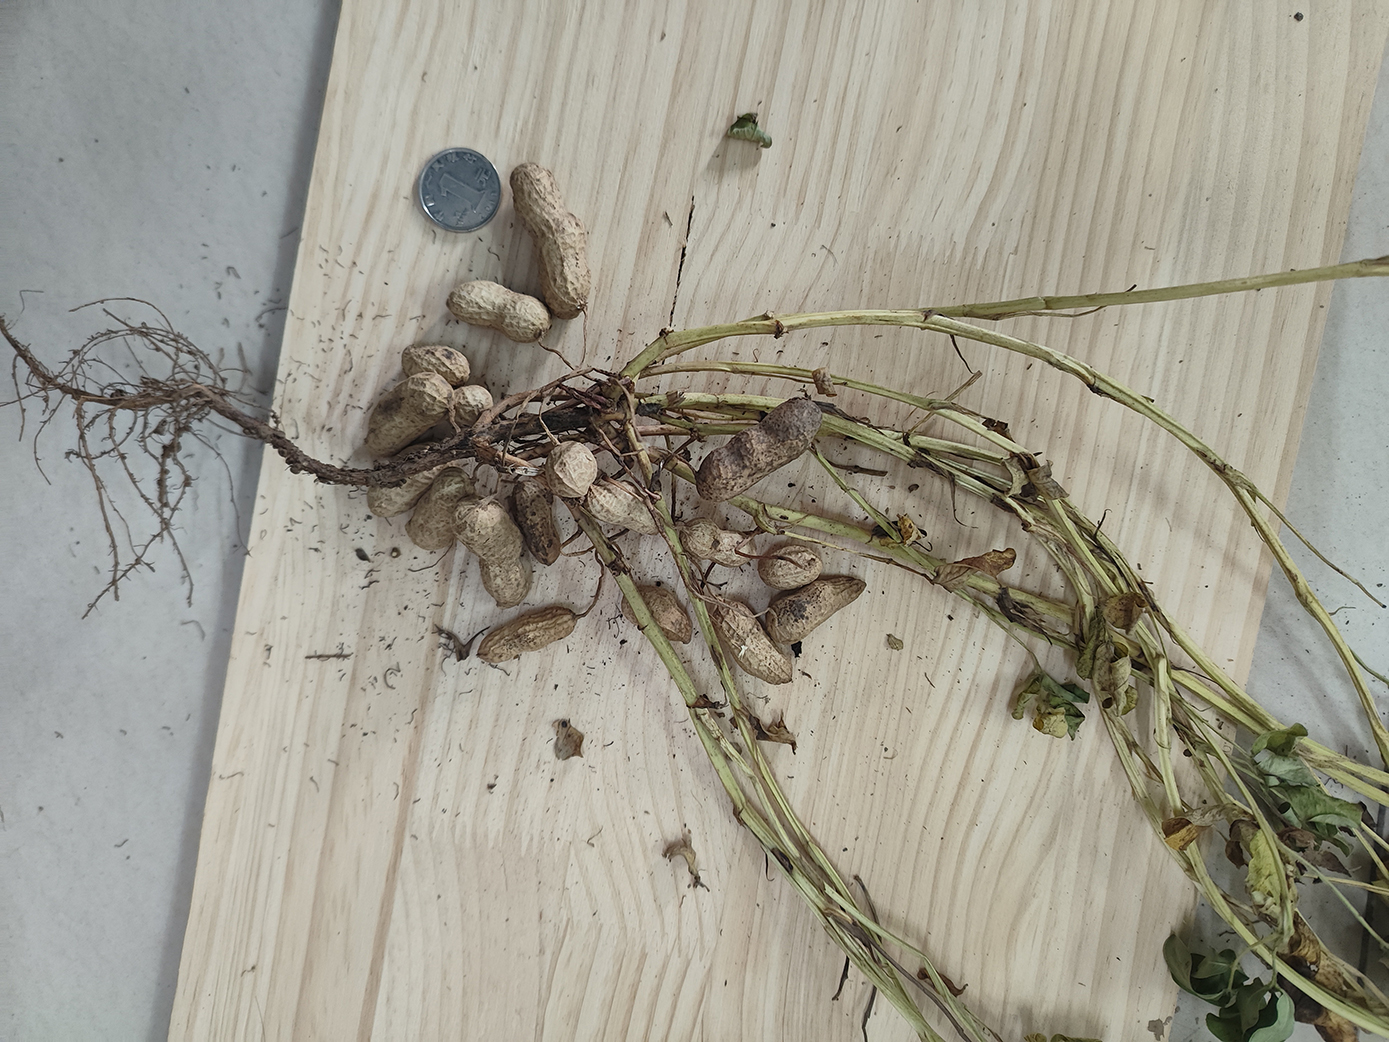h: (510, 161, 594, 321), (451, 497, 530, 609), (710, 599, 796, 688), (367, 370, 453, 458), (367, 447, 458, 520), (769, 576, 866, 645), (445, 281, 549, 341), (406, 467, 473, 549), (476, 609, 575, 663), (588, 479, 664, 540), (620, 583, 691, 647), (512, 476, 559, 565), (684, 521, 755, 575), (541, 441, 599, 501), (756, 545, 827, 588), (402, 344, 470, 387), (447, 386, 499, 431)
l: (697, 398, 817, 500)
